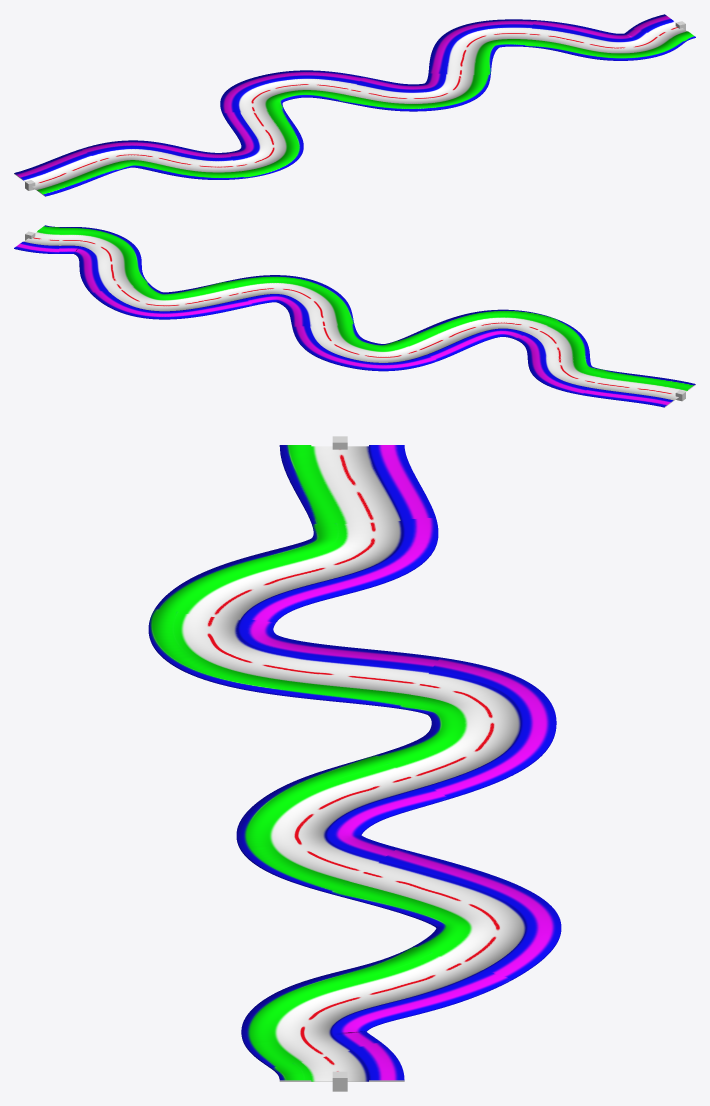
File: Turns.dae
3 views of the same model, one above another, from view 1: azimuth 30°, elevation 25°; view 2: azimuth 150°, elevation 25°; view 3: azimuth 270°, elevation 25° (orthographic). The views are drawn at different scales.
Parts seen in each view (by area): view 1: PathPath.004; view 2: PathPath.004; view 3: PathPath.004.
Part boxes in pixels (x1,y1,x2,y2): PathPath.004: [14, 14, 695, 196]; PathPath.004: [14, 225, 695, 407]; PathPath.004: [148, 445, 561, 1081].
Size of the model in its own units: 200 by 54.47 by 2.
